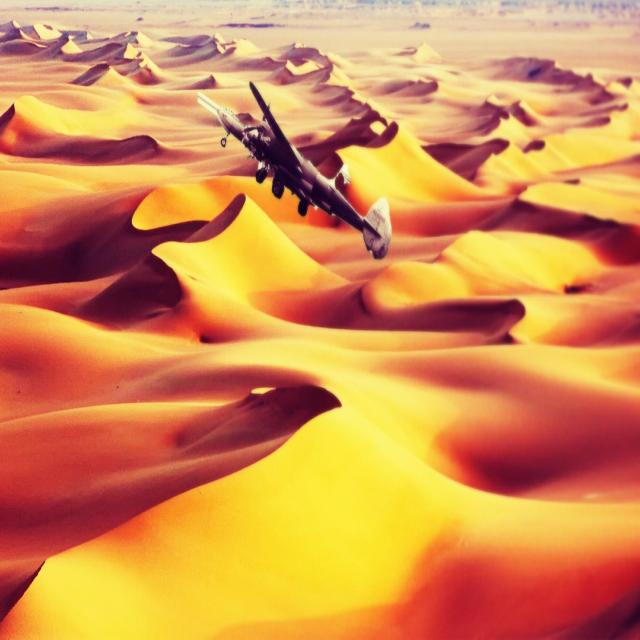airplane: (196, 80, 393, 260)
